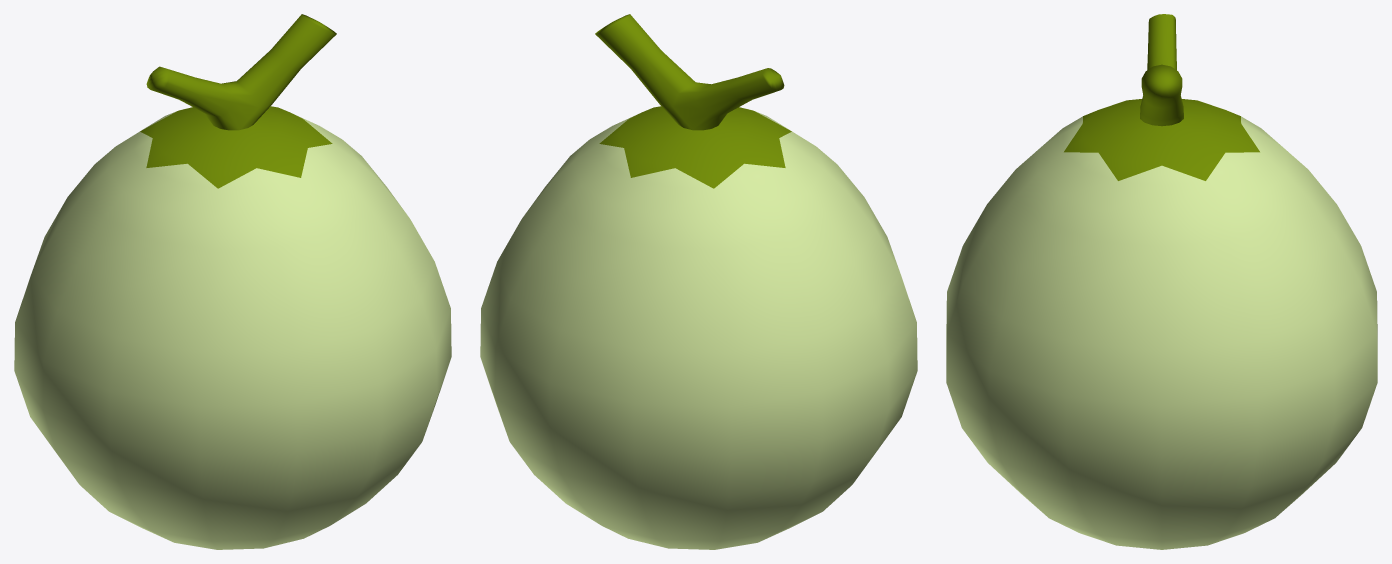
The model's file is coconat 2.fbx.
3 renders of one model, left to right at view 1: azimuth 30°, elevation 25°; view 2: azimuth 150°, elevation 25°; view 3: azimuth 270°, elevation 25°, orthographic.
Parts seen in each view (by area): view 1: pSphere33; view 2: pSphere33; view 3: pSphere33.
Boxes of the visible parts, x1=… form: pSphere33: x1=14, y1=14, x2=451, y2=549; pSphere33: x1=480, y1=14, x2=917, y2=549; pSphere33: x1=946, y1=14, x2=1377, y2=549.
Size of the model in its own units: 4.64 by 5.86 by 4.53.
